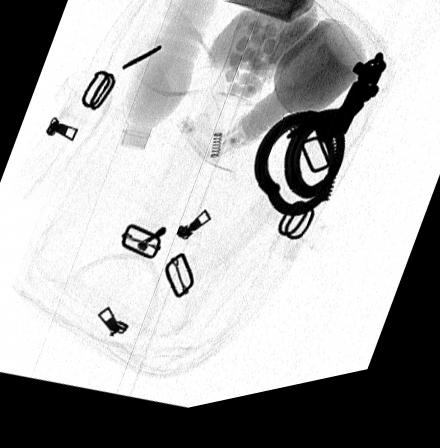HandCuffs: (254, 69, 388, 229)
